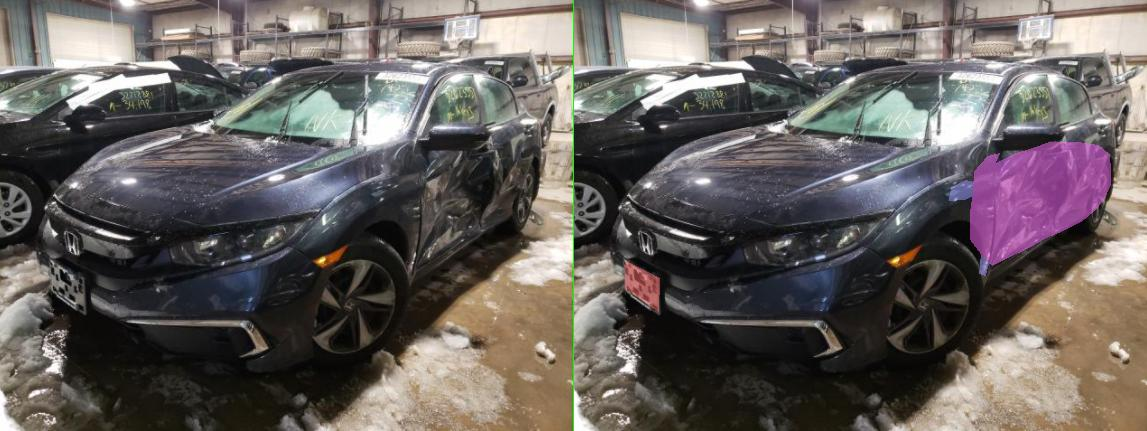Dent: (793, 142, 1073, 265)
Missing part: (102, 261, 170, 311)
Scratch: (927, 141, 1009, 177), (985, 170, 1033, 212), (837, 157, 891, 184), (843, 236, 895, 263), (899, 223, 949, 249), (873, 209, 951, 223), (751, 180, 801, 200), (903, 149, 933, 176), (811, 249, 835, 275)
